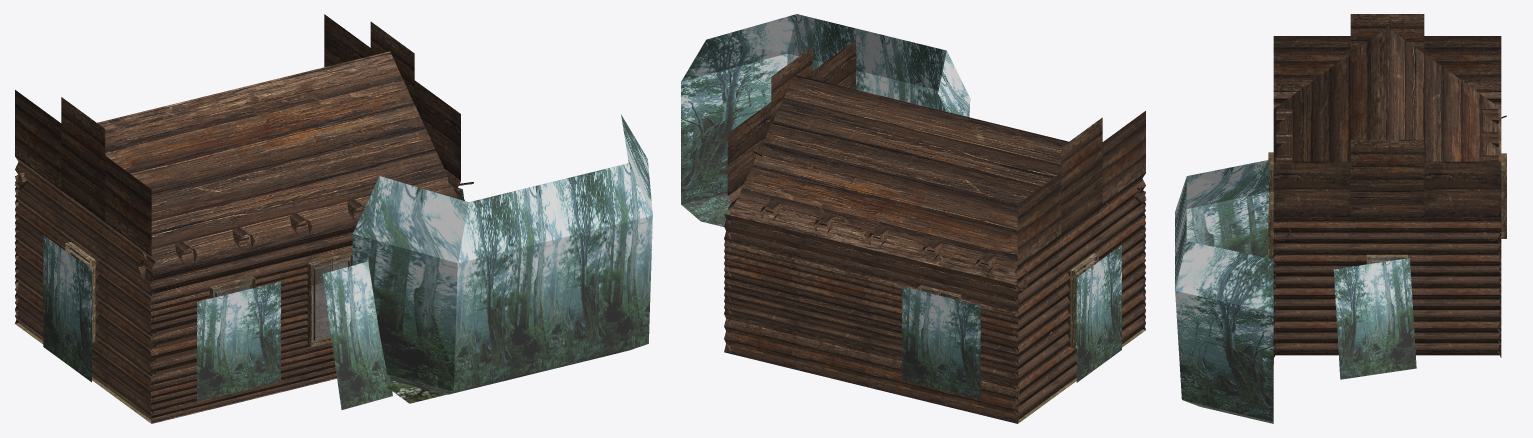
File: cabane.obj
The picture shows the model from 3 angles, left to right: view 1: azimuth 30°, elevation 25°; view 2: azimuth 150°, elevation 25°; view 3: azimuth 270°, elevation 25°; orthographic projection. The views are drawn at different scales.
Visible parts, largest first — view 1: rdmobj11_"", rdmobj27_"", rdmobj05_"", rdmobj47_"", rdmobj58_"", rdmobj19_"", rdmobj44_"", rdmobj09_"", rdmobj46_"", rdmobj38_"", rdmobj56_""; view 2: rdmobj27_"", rdmobj28_"", rdmobj05_"", rdmobj11_"", rdmobj47_"", rdmobj19_"", rdmobj38_"", rdmobj46_""; view 3: rdmobj05_"", rdmobj11_"", rdmobj27_"", rdmobj47_"", rdmobj19_"", rdmobj38_"".
Part boxes in pixels (left/top/right/bottom): rdmobj11_"": left=352, top=114, right=652, bottom=394; rdmobj27_"": left=17, top=51, right=456, bottom=275; rdmobj05_"": left=15, top=14, right=460, bottom=421; rdmobj47_"": left=43, top=187, right=464, bottom=409; rdmobj58_"": left=149, top=200, right=464, bottom=423; rdmobj19_"": left=65, top=242, right=352, bottom=347; rdmobj44_"": left=69, top=247, right=350, bottom=342; rdmobj09_"": left=155, top=322, right=196, bottom=375; rdmobj46_"": left=14, top=154, right=363, bottom=281; rdmobj38_"": left=150, top=126, right=414, bottom=263; rdmobj56_"": left=388, top=380, right=446, bottom=403; rdmobj27_"": left=730, top=74, right=1143, bottom=284; rdmobj28_"": left=724, top=214, right=1019, bottom=423; rdmobj05_"": left=727, top=40, right=1145, bottom=421; rdmobj11_"": left=681, top=14, right=970, bottom=226; rdmobj47_"": left=902, top=245, right=1121, bottom=399; rdmobj19_"": left=918, top=253, right=1098, bottom=348; rdmobj38_"": left=760, top=144, right=1018, bottom=273; rdmobj46_"": left=732, top=171, right=1146, bottom=290; rdmobj05_"": left=1273, top=14, right=1501, bottom=355; rdmobj11_"": left=1175, top=160, right=1273, bottom=423; rdmobj27_"": left=1273, top=26, right=1501, bottom=232; rdmobj47_"": left=1248, top=215, right=1416, bottom=379; rdmobj19_"": left=1268, top=152, right=1506, bottom=264; rdmobj38_"": left=1276, top=77, right=1498, bottom=149.
Bounding box in the file's own units: 5.66 × 2.84 × 3.94.
Materials: 29 (28 with a texture image).
